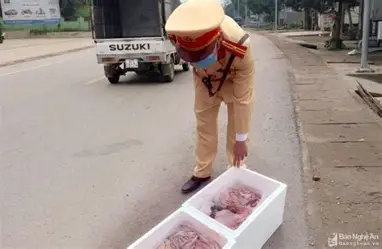ROAD_OBSTACLE: (182, 160, 288, 242), (125, 200, 235, 249)
